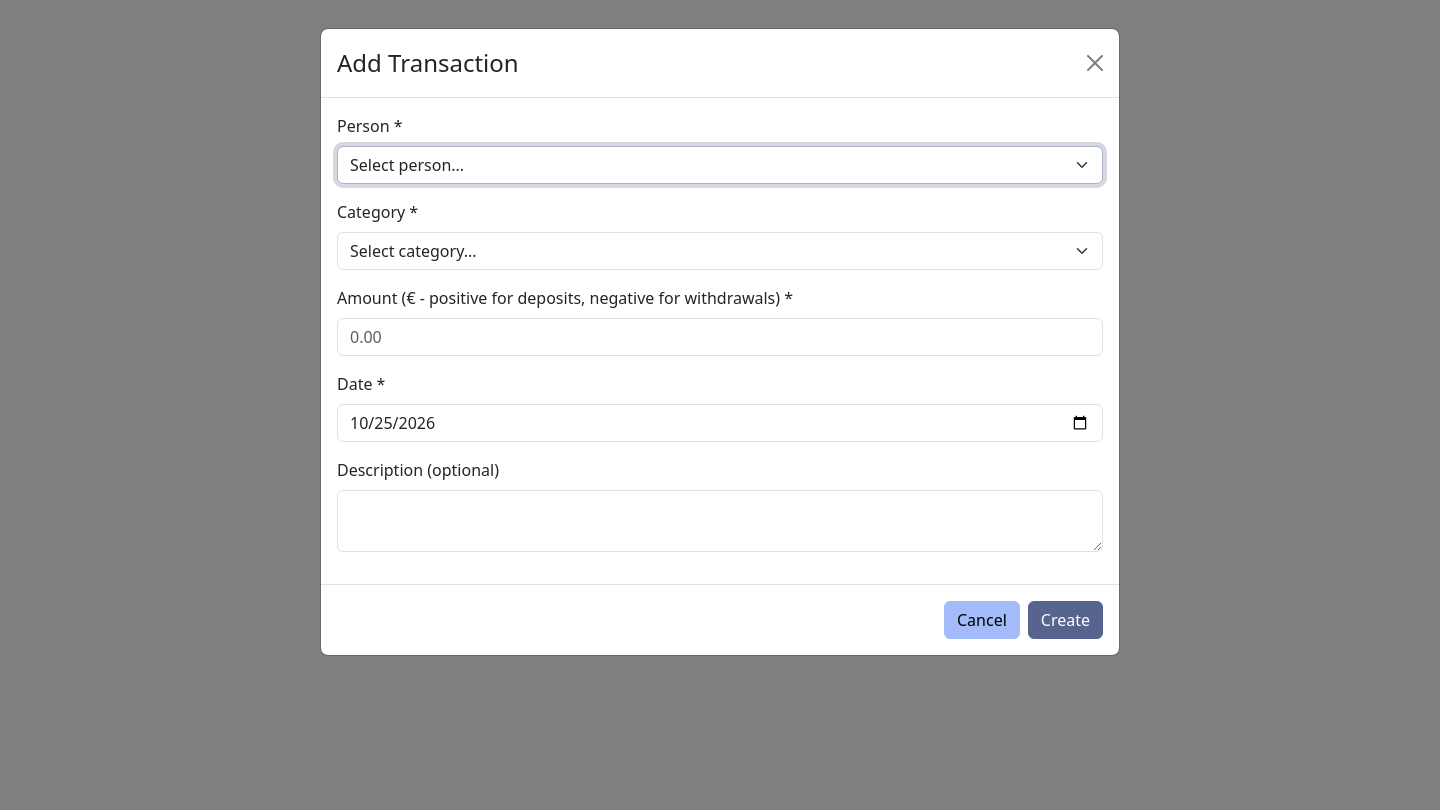
Scenario: TransactionFormModal › blocks submit and shows an error when required fields are empty
Click the button "Create".
click(1065, 620)  # box [1028,601,1103,639]
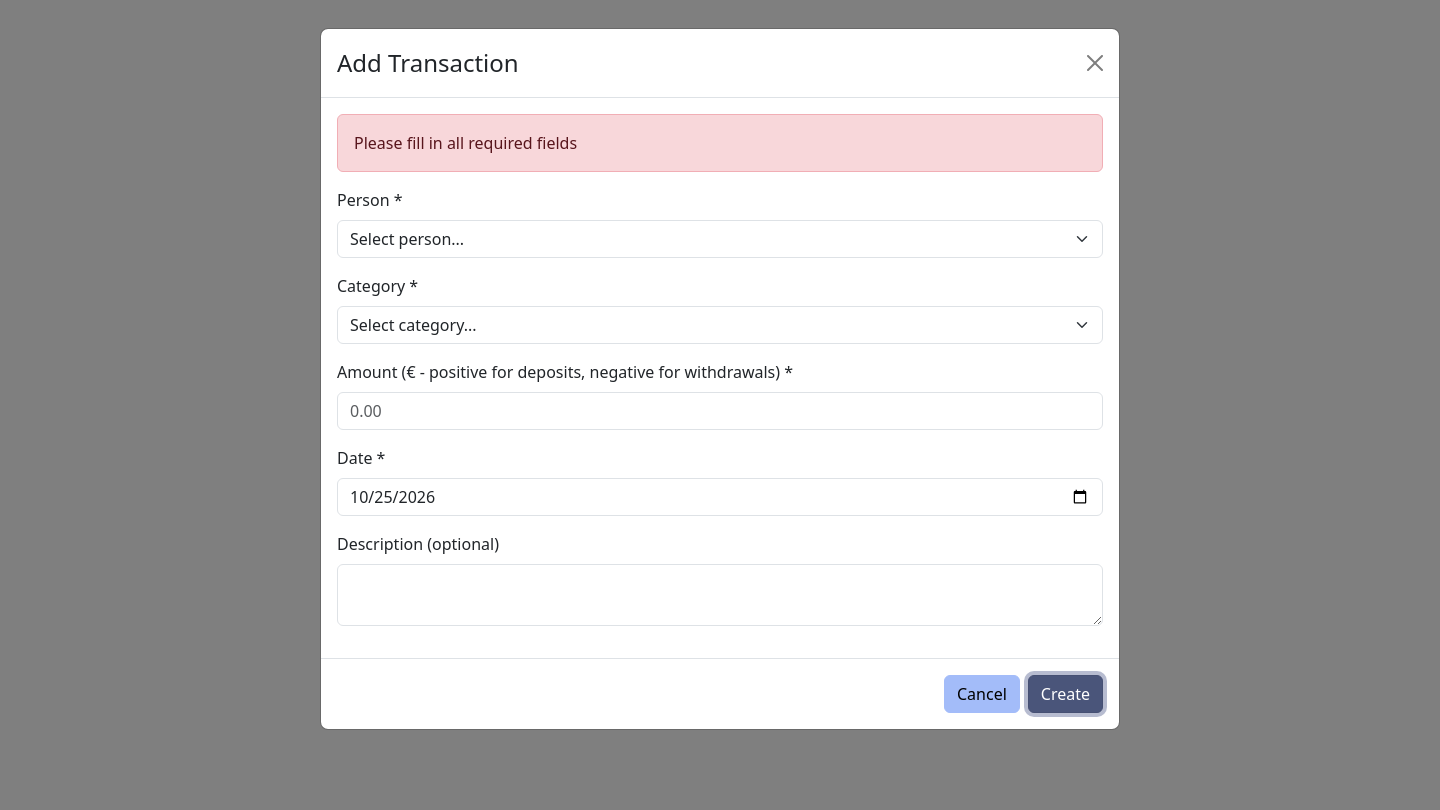
Expected: the text "Please fill in all required fields" is shown, [337,114,1103,172]
